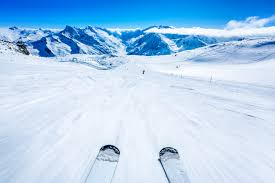skis: (82, 141, 193, 183)
